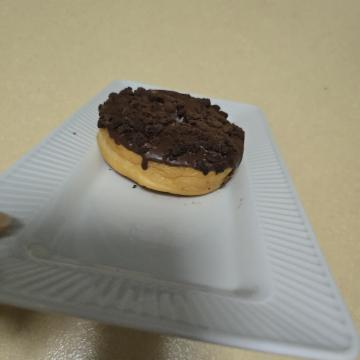doughnut: (71, 100, 214, 282)
